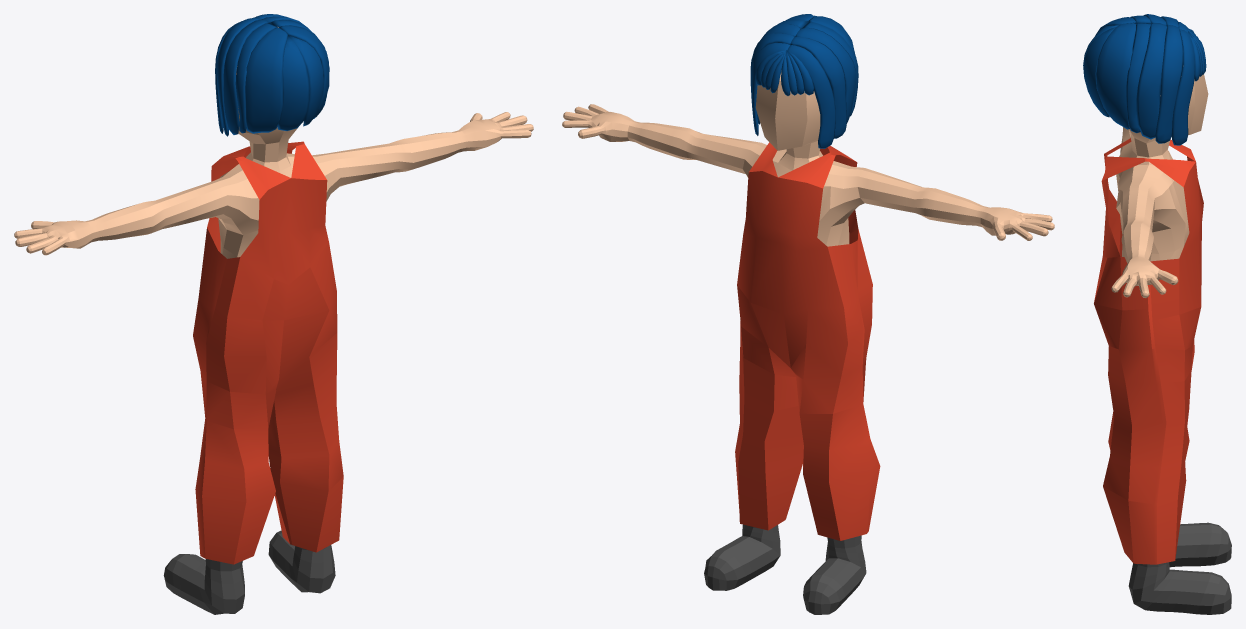
The model's file is modelofaserig-fbx.fbx.
3 views of the same model, side by side, from view 1: azimuth 30°, elevation 25°; view 2: azimuth 150°, elevation 25°; view 3: azimuth 270°, elevation 25° (orthographic). The views are drawn at different scales.
Parts seen in each view (by area): view 1: Null_1; view 2: Null_1; view 3: Null_1.
Boxes of the visible parts, x1=… form: Null_1: x1=14, y1=14, x2=533, y2=614; Null_1: x1=562, y1=14, x2=1054, y2=614; Null_1: x1=1083, y1=14, x2=1231, y2=614.
Bounding box in the file's own units: 138 × 150 × 35.78.
